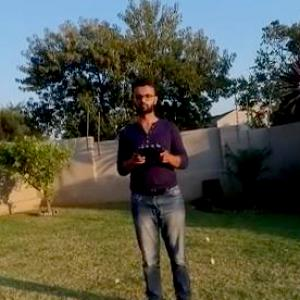follow: (112, 69, 197, 299)
